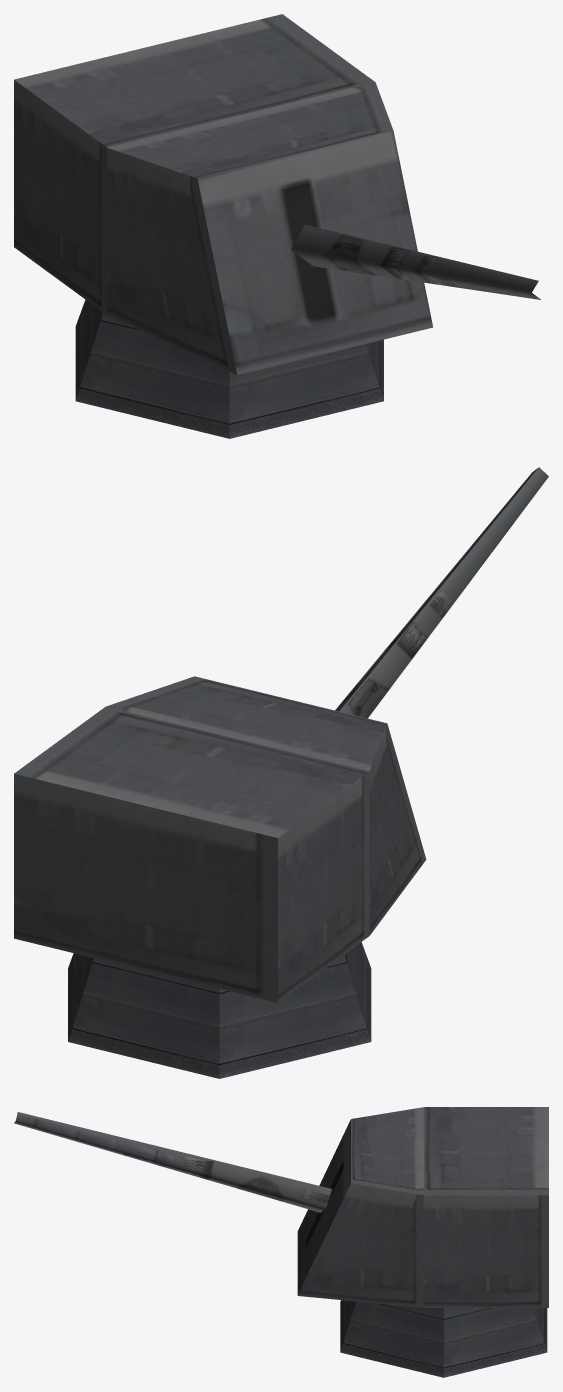
File: cruisergun1.gltf
3 views of the same model, one above another, from view 1: azimuth 30°, elevation 25°; view 2: azimuth 150°, elevation 25°; view 3: azimuth 270°, elevation 25° (orthographic). The views are drawn at different scales.
Visible parts, largest first — view 1: cruisergun1_atomic0, cruisergun1_atomic1; view 2: cruisergun1_atomic0, cruisergun1_atomic1; view 3: cruisergun1_atomic0, cruisergun1_atomic1.
Boxes of the visible parts, box(x1,y1,x2,y2) form: cruisergun1_atomic0: box(14, 14, 540, 375); cruisergun1_atomic1: box(75, 299, 383, 438); cruisergun1_atomic0: box(14, 467, 548, 1002); cruisergun1_atomic1: box(68, 942, 371, 1078); cruisergun1_atomic0: box(14, 1107, 548, 1307); cruisergun1_atomic1: box(340, 1300, 547, 1377).
Size of the model in its own units: 13.82 by 13.58 by 30.91.
2 materials, 2 textured.
